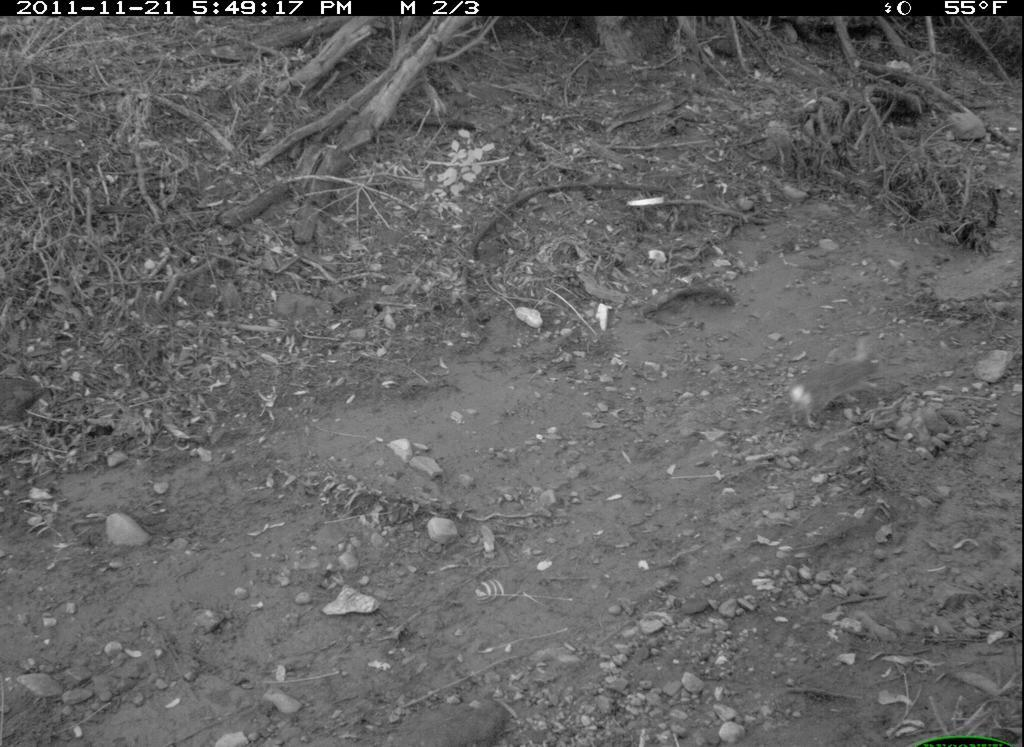rabbit: (781, 332, 893, 437)
